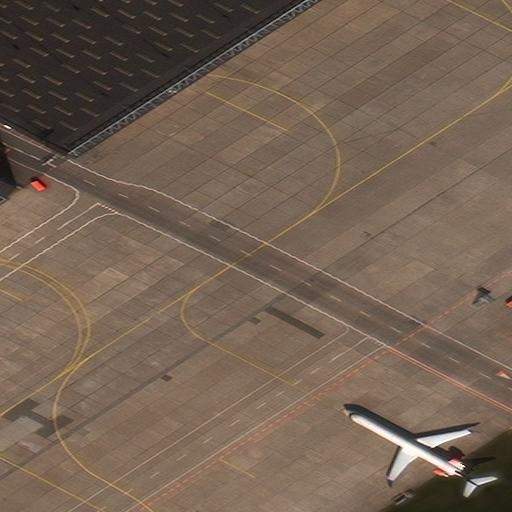Medium Civil Transport: (341, 408, 481, 488)
